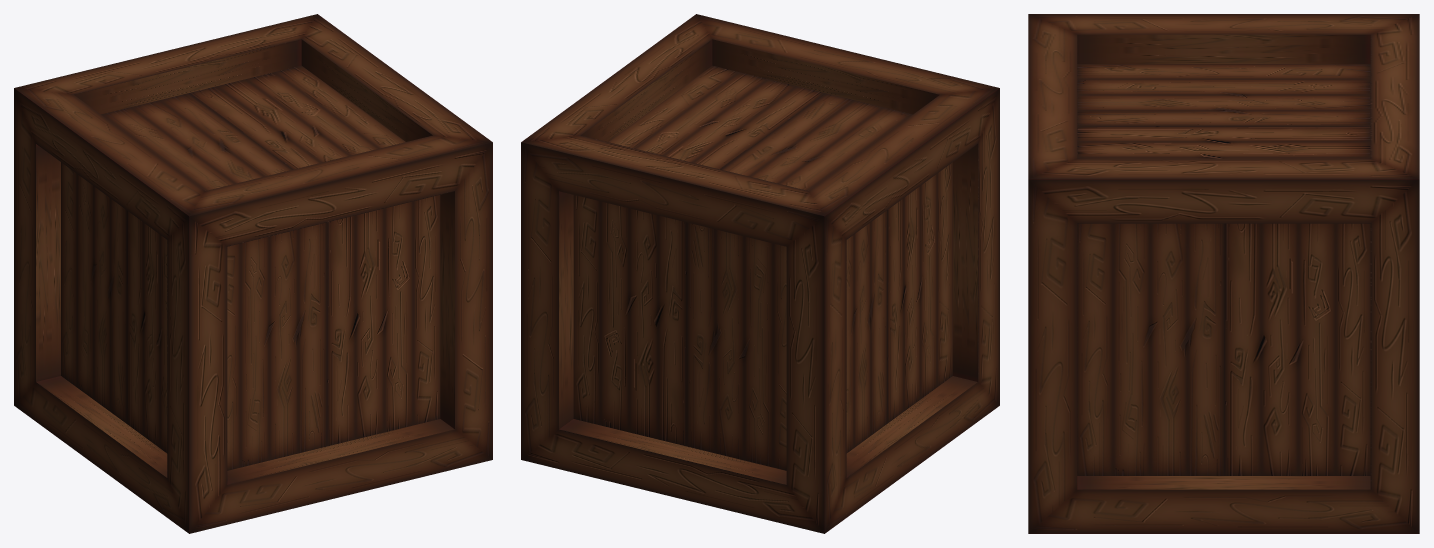
File: Crate_Intial_11-21.fbx
The picture shows the model from 3 angles, left to right: view 1: azimuth 30°, elevation 25°; view 2: azimuth 150°, elevation 25°; view 3: azimuth 270°, elevation 25°; orthographic projection. The views are drawn at different scales.
Visible parts, largest first — view 1: Crate_Intial_10_23:pCube1; view 2: Crate_Intial_10_23:pCube1; view 3: Crate_Intial_10_23:pCube1.
Part boxes in pixels (x1,y1,x2,y2): Crate_Intial_10_23:pCube1: [14, 14, 492, 533]; Crate_Intial_10_23:pCube1: [521, 14, 999, 533]; Crate_Intial_10_23:pCube1: [1028, 14, 1419, 533].
Size of the model in its own units: 25.48 by 25.48 by 25.48.
1 material, 1 textured.
